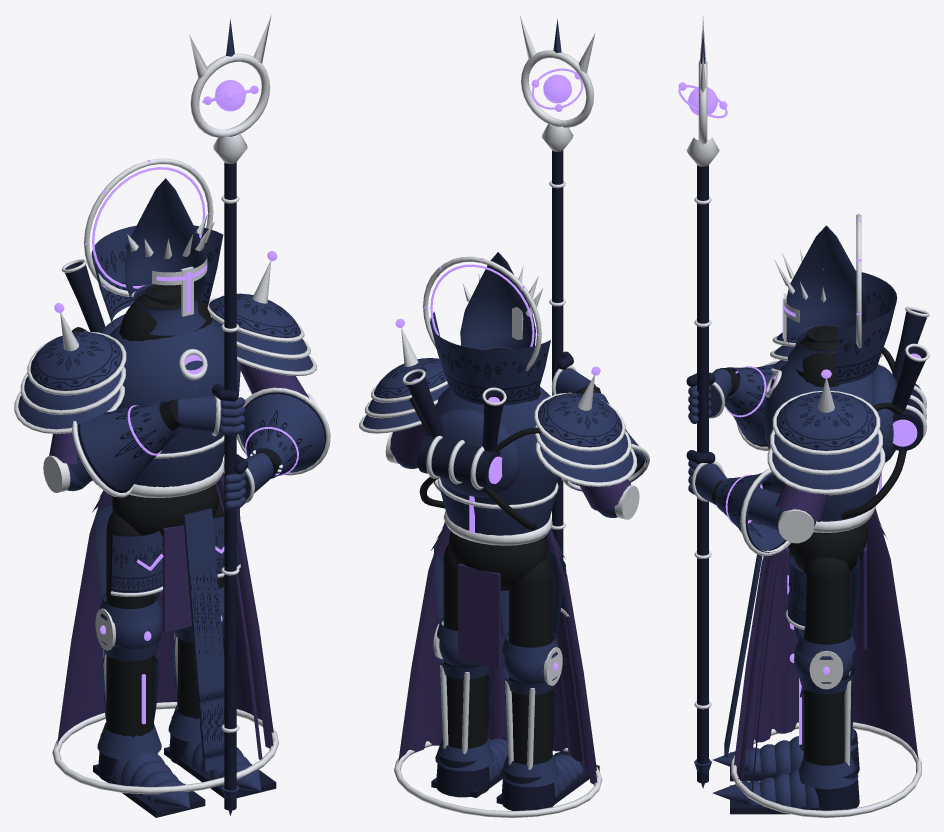
The model's file is techno_plate_mage.glb.
3 renders of one model, left to right at view 1: azimuth 30°, elevation 25°; view 2: azimuth 150°, elevation 25°; view 3: azimuth 270°, elevation 25°, orthographic. The views are drawn at different scales.
Parts seen in each view (by area): view 1: robe, spaulder (×2), trumpet_cuff (×2), stole, breastplate, staff_shaft, leg_undersuit (×2), helm, tasset (×2), high_collar, pelvis_undersuit, robe_hem (+25 smaller); view 2: robe, leg_undersuit (×2), spaulder (×2), high_collar, helm, breastplate, cloth_back, staff_shaft, heel (×2), pelvis_undersuit, pack_mount, plackart (+20 smaller); view 3: robe, spaulder, leg_undersuit, staff_shaft, helm, trumpet_cuff (×2), high_collar, spaulder_rim (×3), robe_hem, pelvis_undersuit, breastplate, exhaust_stack (×2) (+29 smaller).
Boxes of the visible parts, x1,y1,x2,y2 form: robe: (57,472,273,759); spaulder (×2): (18,293,313,429); trumpet_cuff (×2): (72,392,325,492); stole: (183,508,224,771); breastplate: (109,320,240,453); staff_shaft: (224,162,236,810); leg_undersuit (×2): (106,499,224,737); helm: (124,178,206,303); tasset (×2): (111,508,240,592); high_collar: (91,225,223,330); pelvis_undersuit: (112,482,219,536); robe_hem: (52,702,278,794); robe: (398,522,597,784); leg_undersuit (×2): (443,544,552,764); spaulder (×2): (362,358,633,482); high_collar: (430,311,550,405); helm: (460,252,535,349); breastplate: (435,386,558,504); cloth_back: (458,564,500,669); staff_shaft: (552,150,563,559); heel (×2): (436,751,554,810); pelvis_undersuit: (449,531,547,590); pack_mount: (426,409,520,497); plackart: (439,488,556,535); robe: (734,508,918,791); spaulder: (772,392,880,489); leg_undersuit: (803,557,849,765); staff_shaft: (697,165,708,783); helm: (786,225,868,343); trumpet_cuff (×2): (715,364,789,552); high_collar: (834,271,896,384); spaulder_rim (×3): (767,391,885,494); robe_hem: (731,722,921,817); pelvis_undersuit: (788,522,867,571); breastplate: (763,362,872,449); exhaust_stack (×2): (891,309,926,413).
Size of the model in its own units: 1.04 by 2.79 by 0.8347.
Materials: 7 (1 with a texture image).
